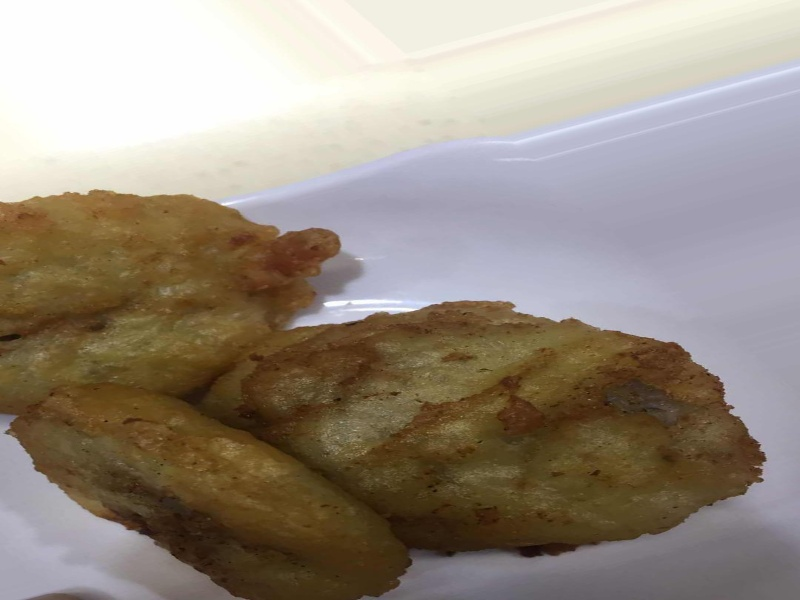patato: (1, 181, 767, 597)
